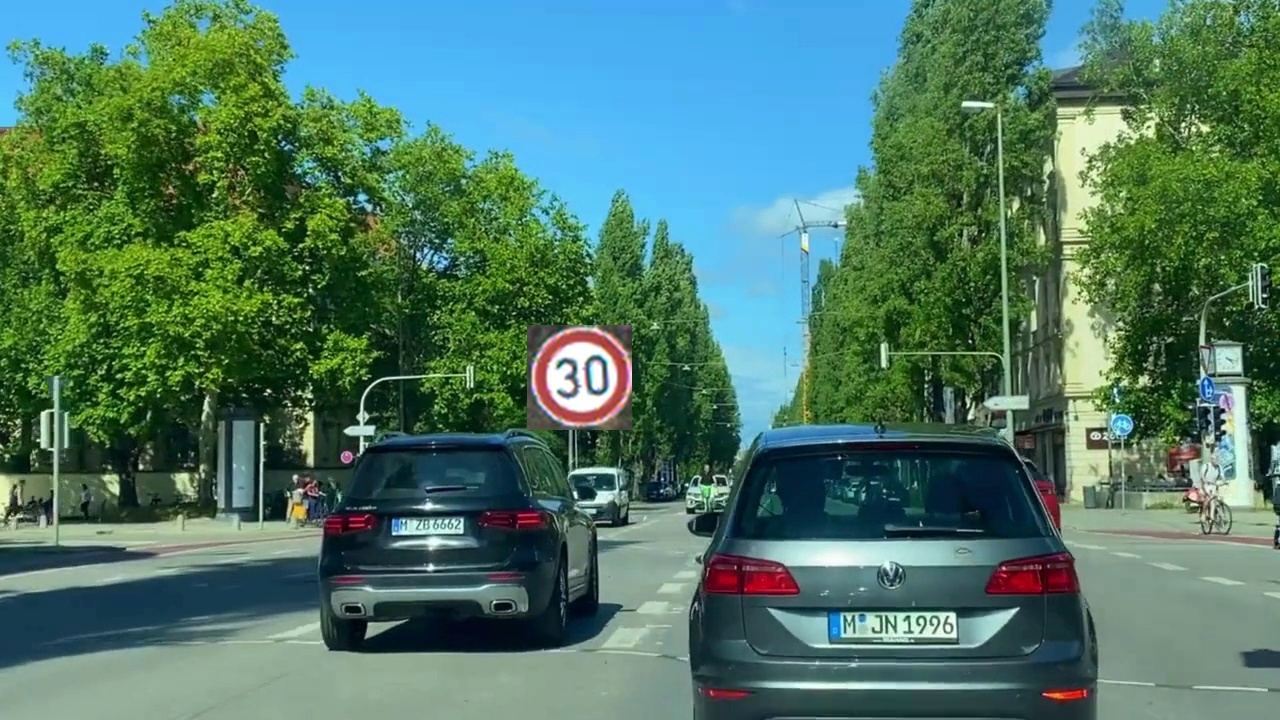Speed 30: (527, 325, 632, 430)
